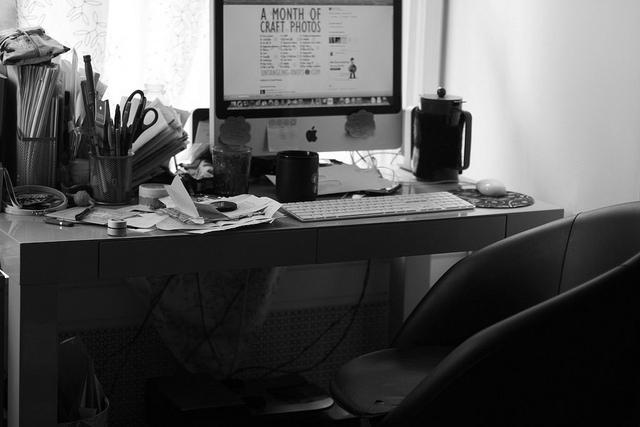glass: (276, 150, 320, 199), (213, 142, 250, 196)
